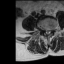CCS_normal: (47, 27, 48, 36)
LFS_severe_stenosis: (51, 27, 53, 33)
LLS_normal: (48, 27, 51, 35)
RFS_severe_stenosis: (42, 27, 45, 33)
RLS_normal: (45, 28, 47, 35)
